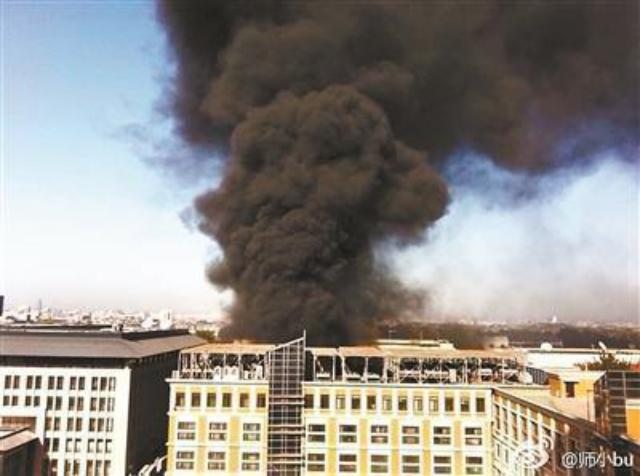smoke: (160, 3, 436, 328), (439, 0, 635, 168)
